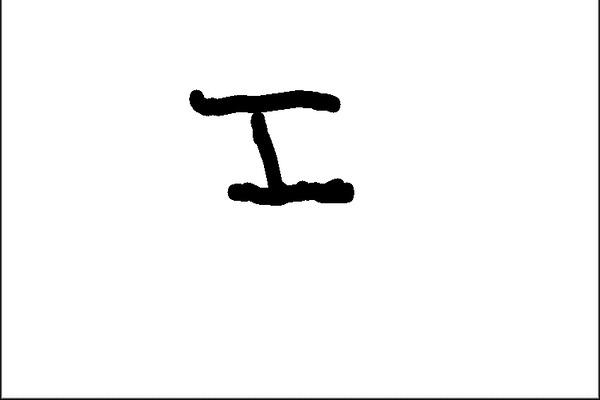i: (180, 79, 363, 219)
